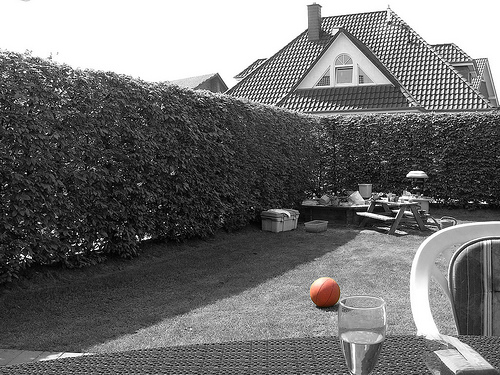basketball: (309, 277, 340, 308)
